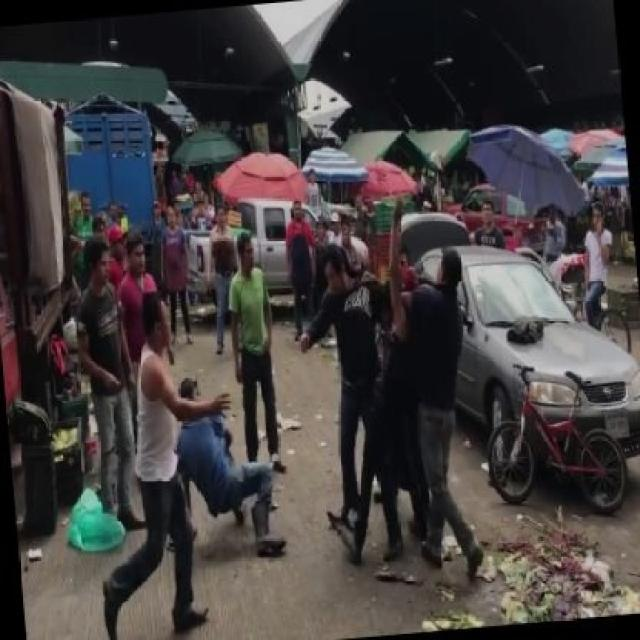fight: (349, 249, 490, 584), (299, 252, 396, 530), (172, 375, 286, 556)
non-fight: (102, 289, 206, 640), (74, 235, 146, 532), (230, 237, 286, 477)
